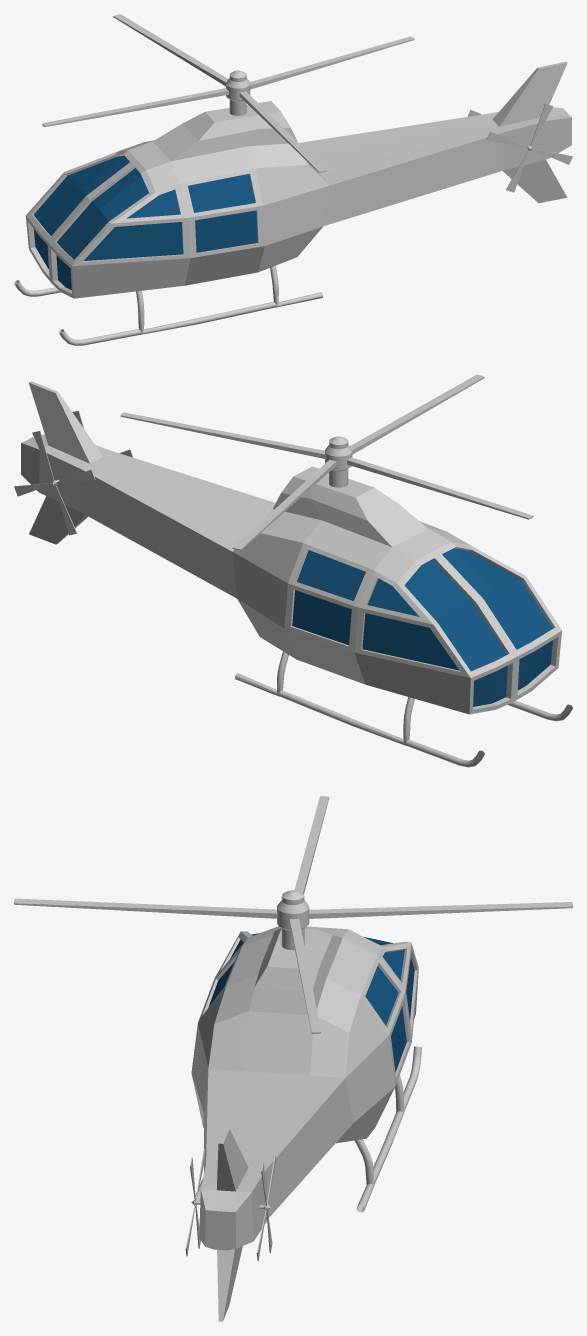
Rendered from helicopter_animation_000213.obj.
The picture shows the model from 3 angles, top to bottom: view 1: azimuth 30°, elevation 25°; view 2: azimuth 150°, elevation 25°; view 3: azimuth 270°, elevation 25°; orthographic projection. The views are drawn at different scales.
Visible parts, largest first — view 1: Helicopter.007_Cylinder.008, Helicopter.001_Cylinder.001, Helicopter.003_Cylinder.004; view 2: Helicopter.007_Cylinder.008, Helicopter.001_Cylinder.001, Helicopter.004_Cylinder.005; view 3: Helicopter.007_Cylinder.008, Helicopter.001_Cylinder.001.
Part boxes in pixels (bbox=[...]): Helicopter.007_Cylinder.008: bbox=[14, 61, 571, 345]; Helicopter.001_Cylinder.001: bbox=[42, 14, 414, 172]; Helicopter.003_Cylinder.004: bbox=[486, 103, 572, 192]; Helicopter.007_Cylinder.008: bbox=[20, 381, 572, 767]; Helicopter.001_Cylinder.001: bbox=[120, 374, 533, 550]; Helicopter.004_Cylinder.005: bbox=[14, 431, 95, 535]; Helicopter.007_Cylinder.008: bbox=[191, 926, 421, 1321]; Helicopter.001_Cylinder.001: bbox=[14, 796, 572, 1033].
Size of the model in its own units: 7.55 by 3.2 by 5.57.
